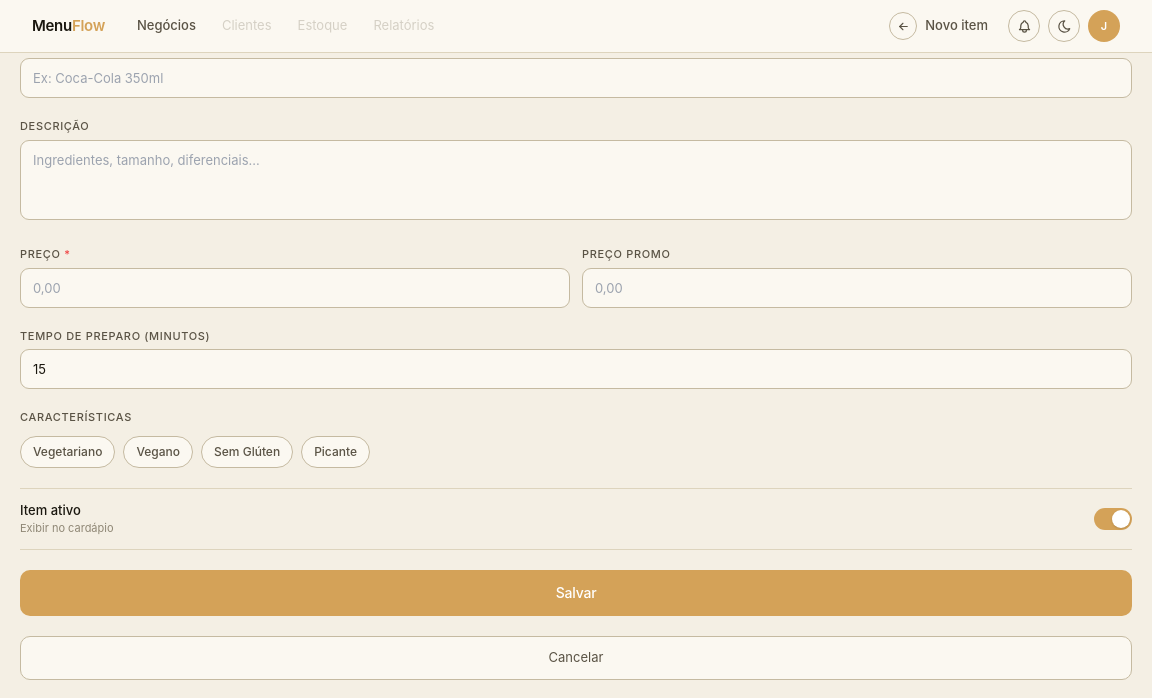
Test: ItemForm — validações › exibe erro de nome quando tenta salvar sem nome
(page scrolled)
Click the button with test id "btn-save".
click(576, 592)  # box [20, 570, 1132, 616]
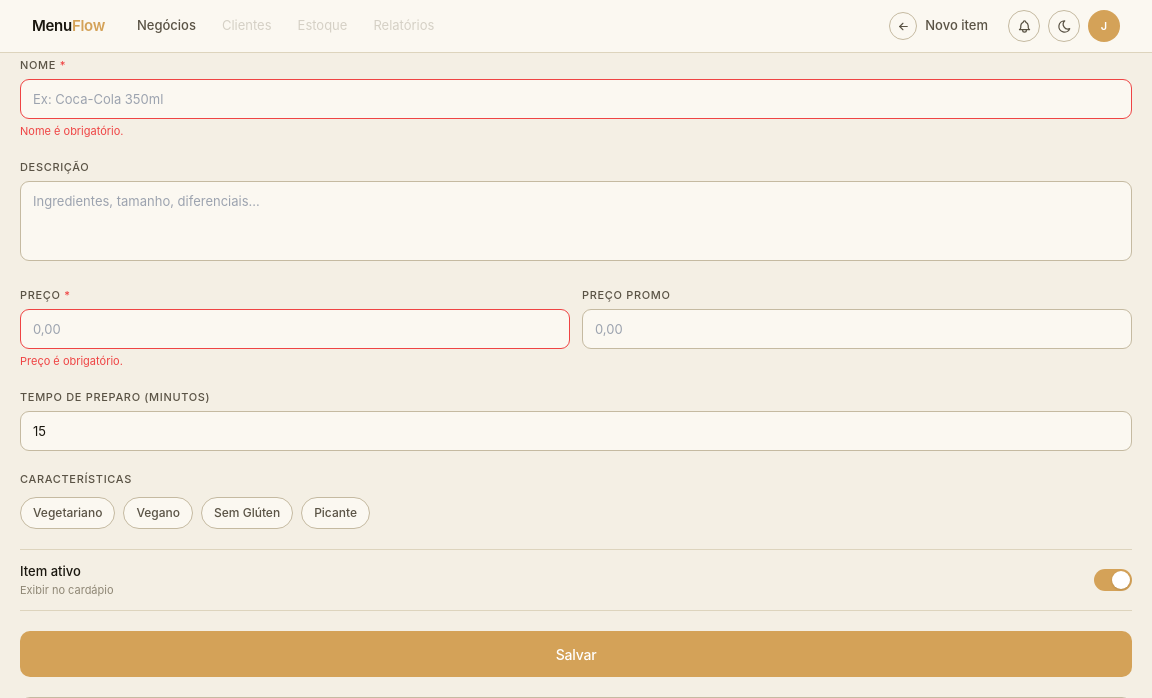
expect the text "Nome é obrigatório." is shown: met, box [20, 124, 124, 138]
